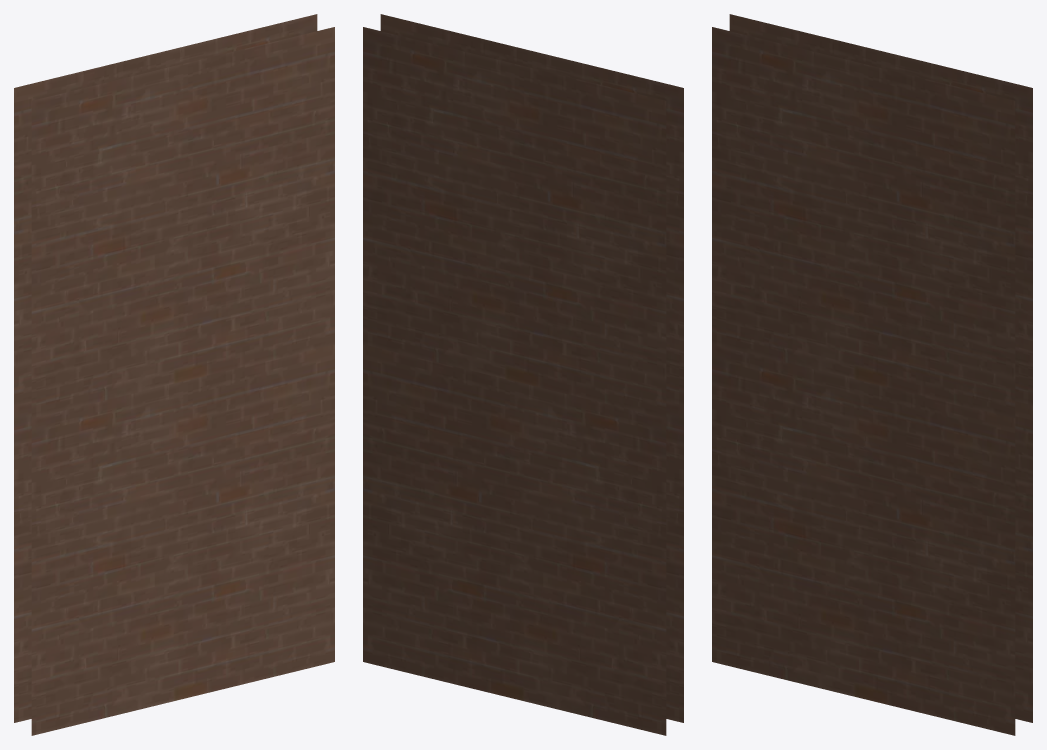
Rendered from Brick_Plain_4.glb.
3 renders of one model, left to right at view 1: azimuth 30°, elevation 25°; view 2: azimuth 150°, elevation 25°; view 3: azimuth 330°, elevation 25°, orthographic.
Parts seen in each view (by area): view 1: Brick_Plain_4; view 2: Brick_Plain_4; view 3: Brick_Plain_4.
Part boxes in pixels (x1,y1,x2,y2): Brick_Plain_4: (14,14,334,735); Brick_Plain_4: (363,14,683,735); Brick_Plain_4: (712,14,1032,735).
Size of the model in its own units: 2 by 4 by 0.2002.
Materials: 1 (1 with a texture image).
